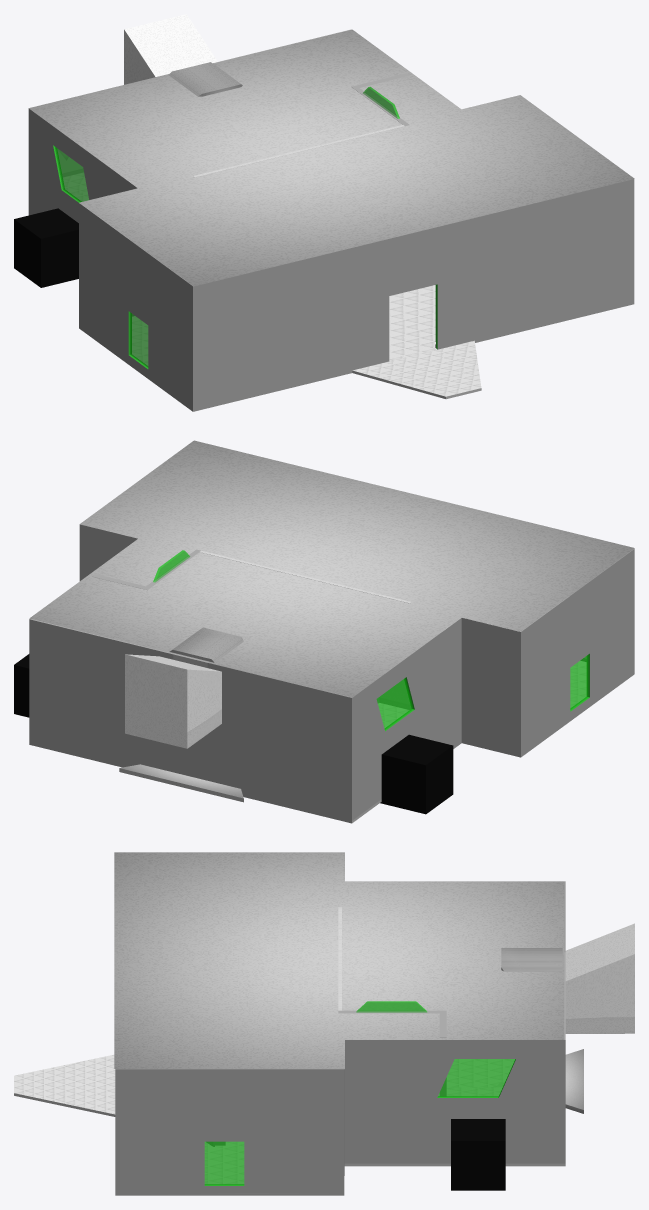
The model's file is SM_Level_2_1.1.fbx.
3 views of the same model, one above another, from view 1: azimuth 30°, elevation 25°; view 2: azimuth 150°, elevation 25°; view 3: azimuth 270°, elevation 25° (orthographic).
Parts seen in each view (by area): view 1: polySurface197, polySurface163, polySurface158, polySurface160, polySurface156, polySurface185, polySurface165, polySurface164; view 2: polySurface197, polySurface163, polySurface160, polySurface158, polySurface149, polySurface156, polySurface165, polySurface185, polySurface153, polySurface159, polySurface164; view 3: polySurface197, polySurface163, polySurface160, polySurface159, polySurface166, polySurface178, polySurface156, polySurface149, polySurface185, polySurface177, polySurface153.
Part boxes in pixels (x1=…): polySurface197: x1=29, y1=29, x2=634, y2=286; polySurface163: x1=28, y1=29, x2=634, y2=411; polySurface158: x1=14, y1=208, x2=78, y2=287; polySurface160: x1=124, y1=14, x2=217, y2=84; polySurface156: x1=169, y1=62, x2=242, y2=96; polySurface185: x1=192, y1=73, x2=409, y2=177; polySurface165: x1=55, y1=147, x2=88, y2=201; polySurface164: x1=130, y1=312, x2=148, y2=367; polySurface197: x1=29, y1=440, x2=634, y2=697; polySurface163: x1=29, y1=524, x2=634, y2=823; polySurface160: x1=125, y1=654, x2=221, y2=748; polySurface158: x1=380, y1=734, x2=453, y2=814; polySurface149: x1=119, y1=764, x2=243, y2=802; polySurface156: x1=169, y1=627, x2=243, y2=662; polySurface165: x1=376, y1=678, x2=412, y2=729; polySurface185: x1=92, y1=549, x2=411, y2=702; polySurface153: x1=378, y1=679, x2=410, y2=727; polySurface159: x1=14, y1=654, x2=29, y2=717; polySurface164: x1=570, y1=655, x2=587, y2=709; polySurface197: x1=114, y1=852, x2=564, y2=1068; polySurface163: x1=14, y1=881, x2=565, y2=1195; polySurface160: x1=565, y1=923, x2=634, y2=1033; polySurface159: x1=451, y1=1119, x2=505, y2=1190; polySurface166: x1=438, y1=1059, x2=515, y2=1096; polySurface178: x1=204, y1=1141, x2=244, y2=1184; polySurface156: x1=501, y1=948, x2=562, y2=971; polySurface149: x1=565, y1=1049, x2=583, y2=1113; polySurface185: x1=338, y1=907, x2=446, y2=1095; polySurface177: x1=356, y1=1001, x2=426, y2=1012; polySurface153: x1=438, y1=1087, x2=501, y2=1095.
Size of the model in its own units: 134 by 43.37 by 162.
9 materials, 4 textured.
